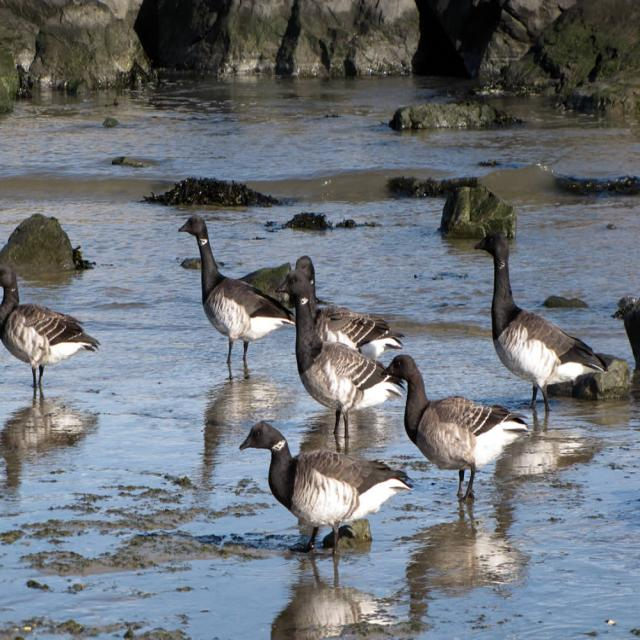bird: (230, 416, 419, 567), (476, 230, 611, 426), (377, 359, 526, 508), (286, 272, 401, 458), (180, 222, 298, 383), (0, 271, 100, 408), (606, 294, 640, 400)
